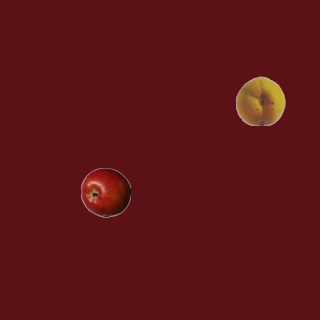Apple Braeburn: (80, 167, 130, 217)
Peach 2: (235, 75, 285, 125)
